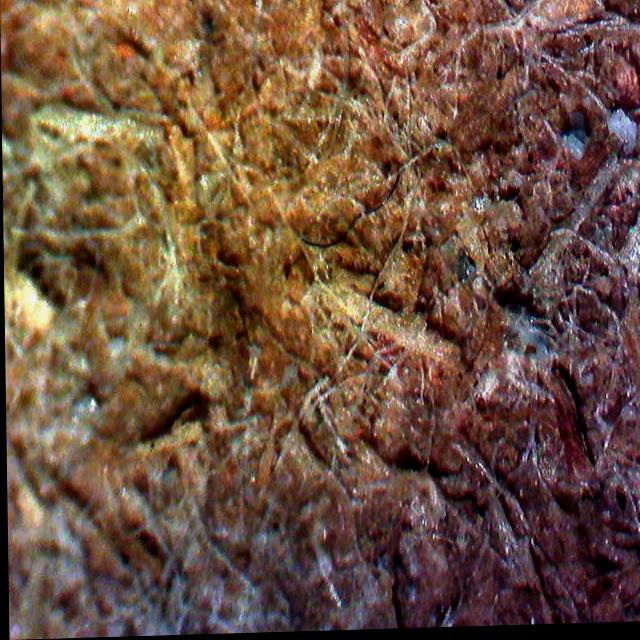microplastic: (295, 163, 412, 267)
